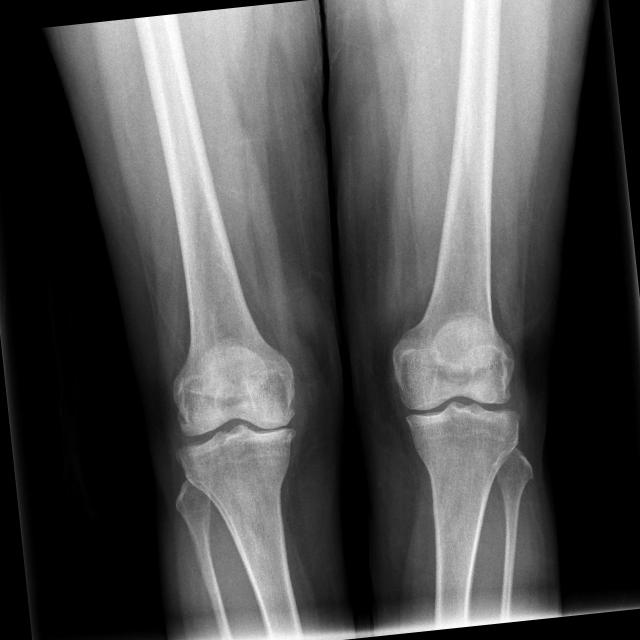Knee: (168, 350, 310, 500), (391, 332, 529, 462)
